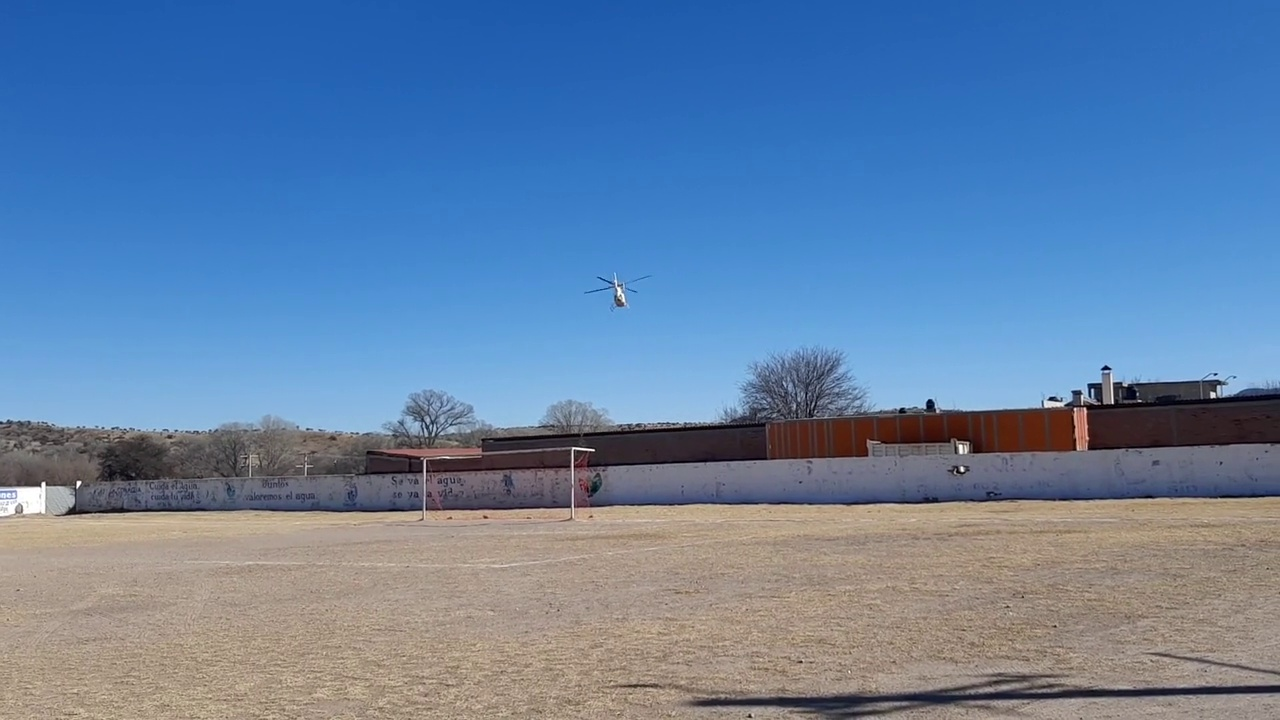heli: (582, 271, 652, 311)
